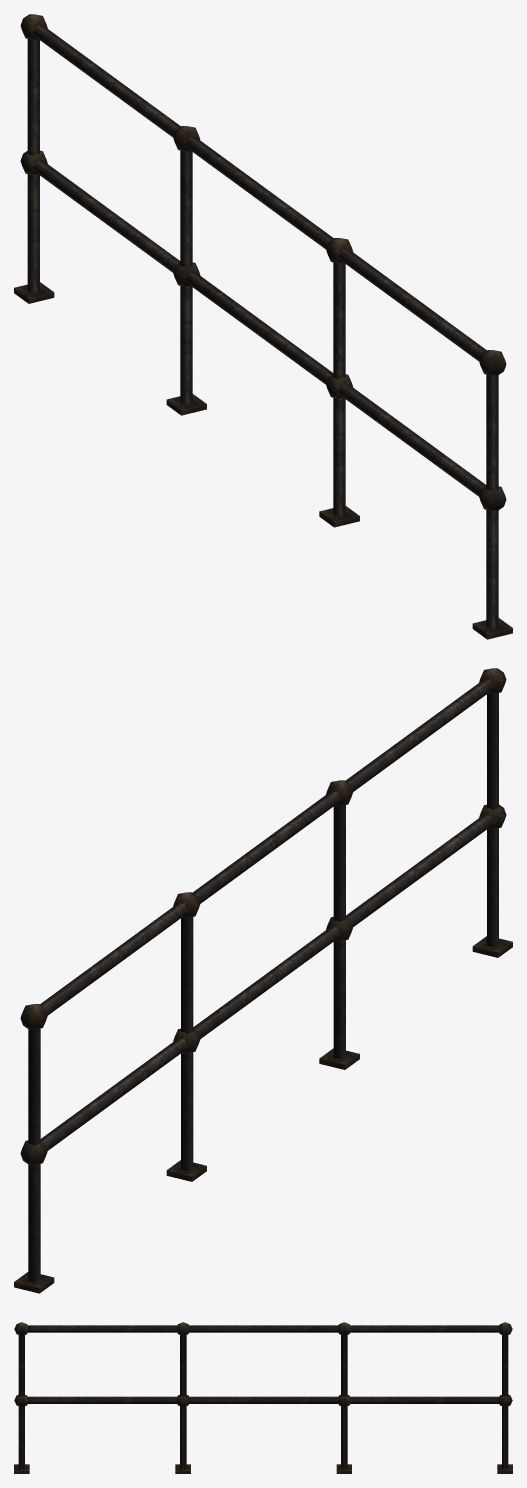
The model's file is railings_factory_4m_dirty.DAE.
The picture shows the model from 3 angles, top to bottom: view 1: azimuth 30°, elevation 25°; view 2: azimuth 150°, elevation 25°; view 3: azimuth 270°, elevation 25°; orthographic projection. The views are drawn at different scales.
Visible parts, largest first — view 1: Object109; view 2: Object109; view 3: Object109.
Part boxes in pixels (<box>): Object109: <box>14,14,512,639</box>; Object109: <box>14,668,512,1293</box>; Object109: <box>14,1322,512,1473</box>.
Bounding box in the file's own units: 0.125 × 1.31 × 4.
